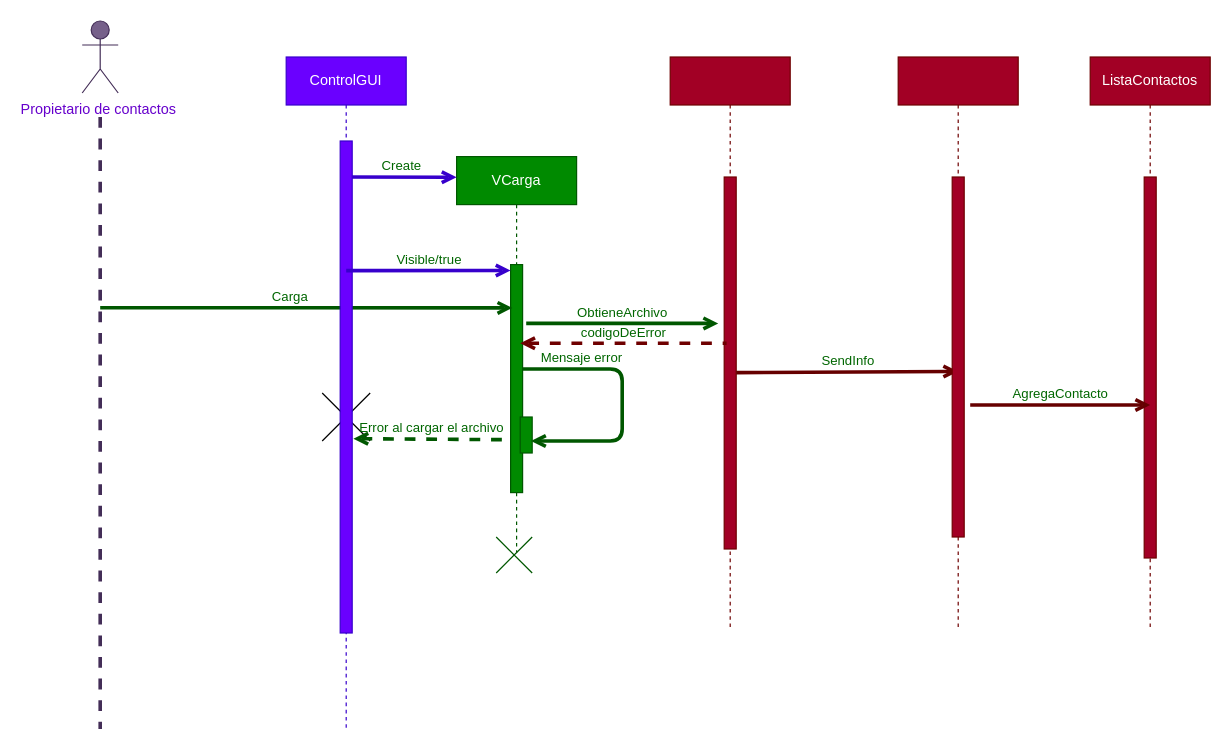
Image size: 1231x752. Some labels were removed from this diagram. Each missing label, with the box of its shape:
GestorArchivo: (669, 56, 790, 631)
GestorContactos: (897, 56, 1018, 631)
